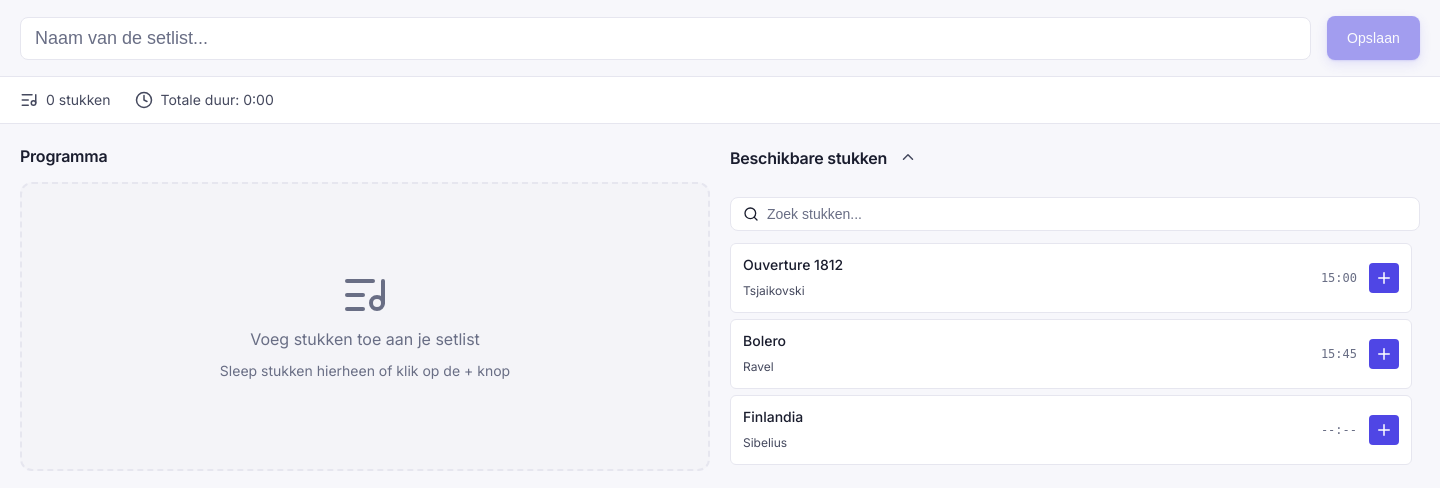
SetlistBuilder: stukken kiezen › meldt het als alle stukken al gekozen zijn
Click the button titled "Toevoegen aan setlist" next to "15:00": (1384, 278) x1=1369 y1=263 x2=1399 y2=293
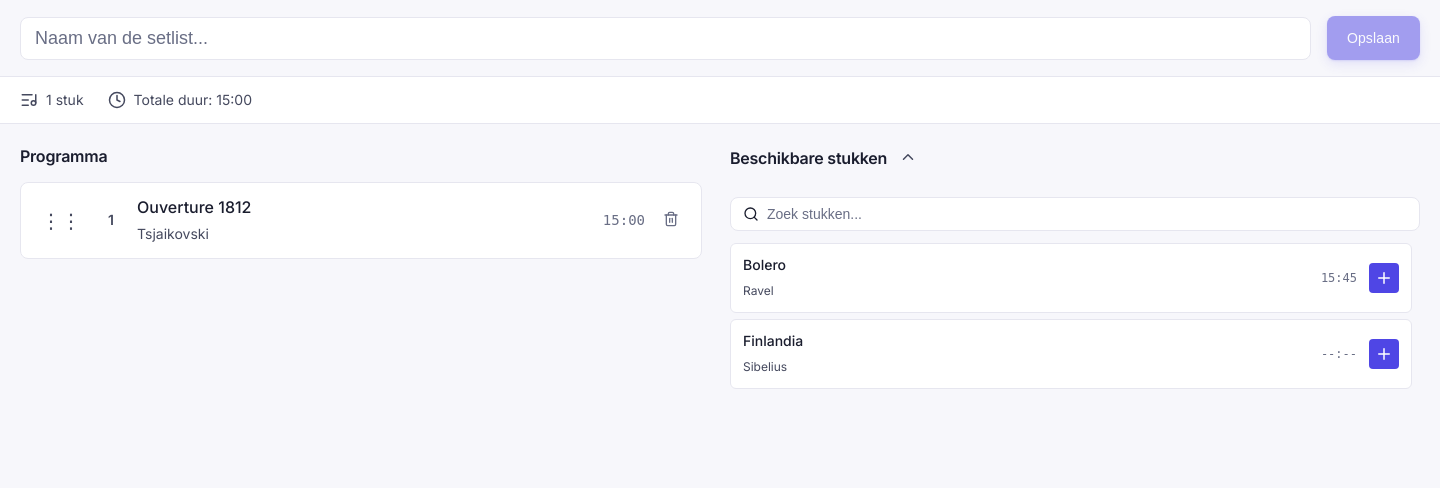
Click the button titled "Toevoegen aan setlist" next to "15:45": (1384, 278) x1=1369 y1=263 x2=1399 y2=293
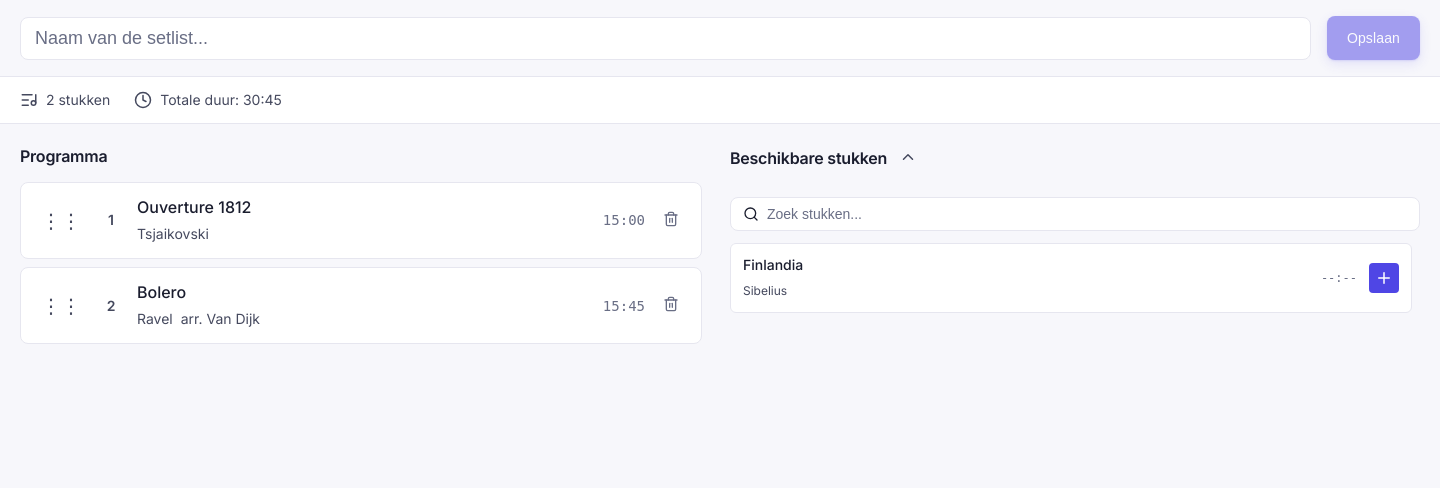
Click the button titled "Toevoegen aan setlist": (1384, 278) x1=1369 y1=263 x2=1399 y2=293
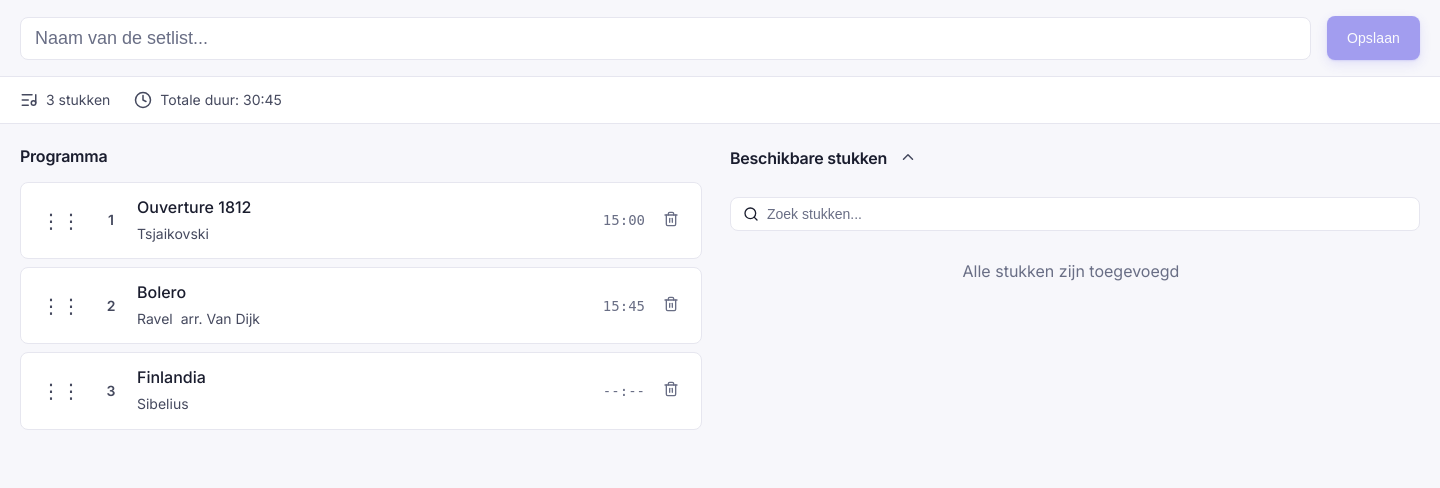
Result: the text "Alle stukken zijn toegevoegd" is shown at x1=963 y1=261 x2=1179 y2=281
